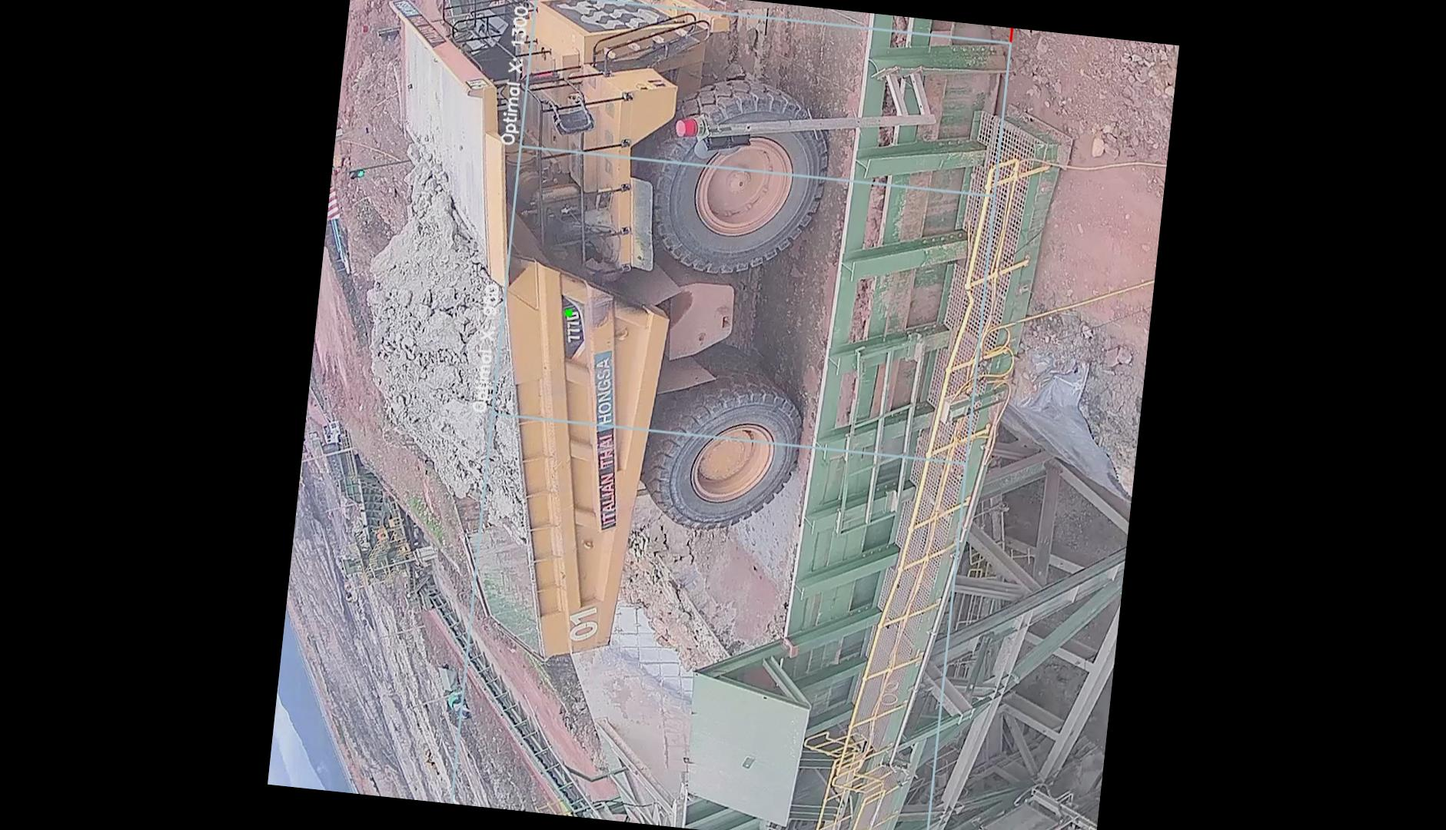company: (571, 344, 635, 538)
full_load: (342, 189, 533, 499)
mining_truck: (307, 0, 853, 689)
tail_number: (557, 590, 611, 651)
truck_size: (550, 284, 590, 367)
